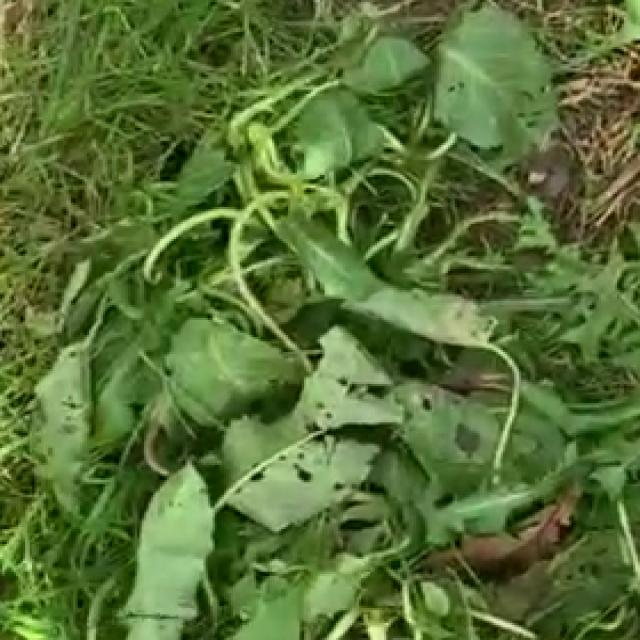organic waste: (36, 19, 640, 618)
